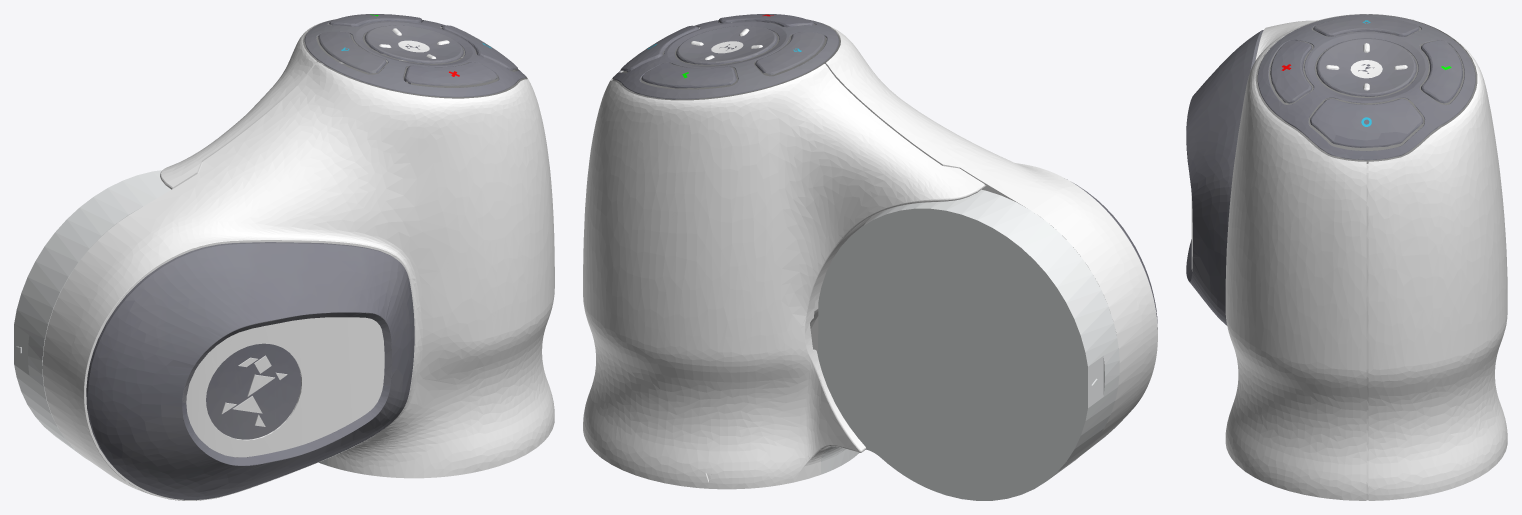
The picture shows the model from 3 angles, left to right: view 1: azimuth 30°, elevation 25°; view 2: azimuth 150°, elevation 25°; view 3: azimuth 270°, elevation 25°; orthographic projection. The views are drawn at different scales.
Parts seen in each view (by area): view 1: node0_Shell012.001, node2_Part__Feature002.001, node0_001_Shell006.001, node6_Shell.003, node7_Face539.001, node1_Part__Feature001.005, node15_Shell007.001, node16_Shell011.001; view 2: node0_Shell012.001, node0_001_Shell006.001, node6_Shell.003, node1_Part__Feature001.005, node15_Shell007.001; view 3: node0_Shell012.001, node6_Shell.003, node2_Part__Feature002.001, node1_Part__Feature001.005, node15_Shell007.001, node5_Face374.001.
Boxes of the visible parts, <box> form: node0_Shell012.001: <box>42,20,554,500</box>; node2_Part__Feature002.001: <box>86,242,414,499</box>; node0_001_Shell006.001: <box>14,170,327,465</box>; node6_Shell.003: <box>318,14,517,85</box>; node7_Face539.001: <box>206,343,301,439</box>; node1_Part__Feature001.005: <box>304,19,526,97</box>; node15_Shell007.001: <box>303,23,525,98</box>; node16_Shell011.001: <box>221,355,287,426</box>; node0_Shell012.001: <box>583,22,1157,489</box>; node0_001_Shell006.001: <box>817,189,1119,500</box>; node6_Shell.003: <box>620,14,825,88</box>; node1_Part__Feature001.005: <box>612,19,838,99</box>; node15_Shell007.001: <box>612,22,840,100</box>; node0_Shell012.001: <box>1191,14,1507,500</box>; node6_Shell.003: <box>1270,16,1462,147</box>; node2_Part__Feature002.001: <box>1186,30,1263,325</box>; node1_Part__Feature001.005: <box>1257,14,1475,160</box>; node15_Shell007.001: <box>1256,27,1477,163</box>; node5_Face374.001: <box>1350,60,1382,78</box>.
Bounding box in the file's own units: 0.1799 × 0.1329 × 0.1002.
Materials: 17 (5 with a texture image).
